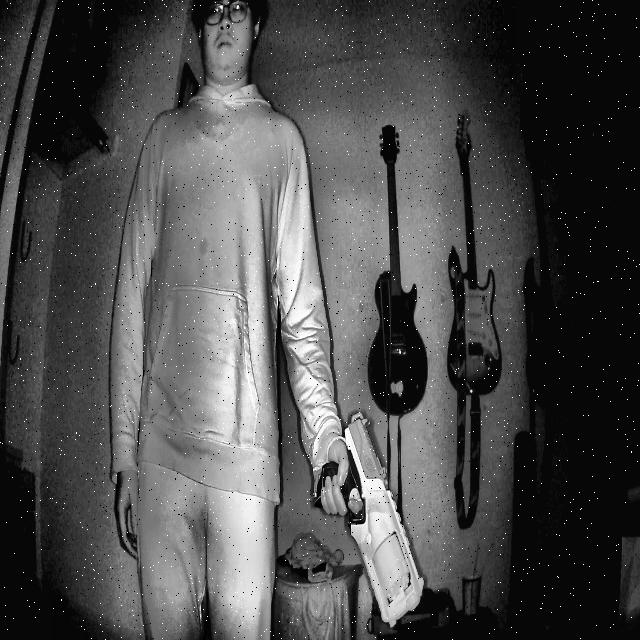Nerf_Blaster: (301, 395, 433, 637)
